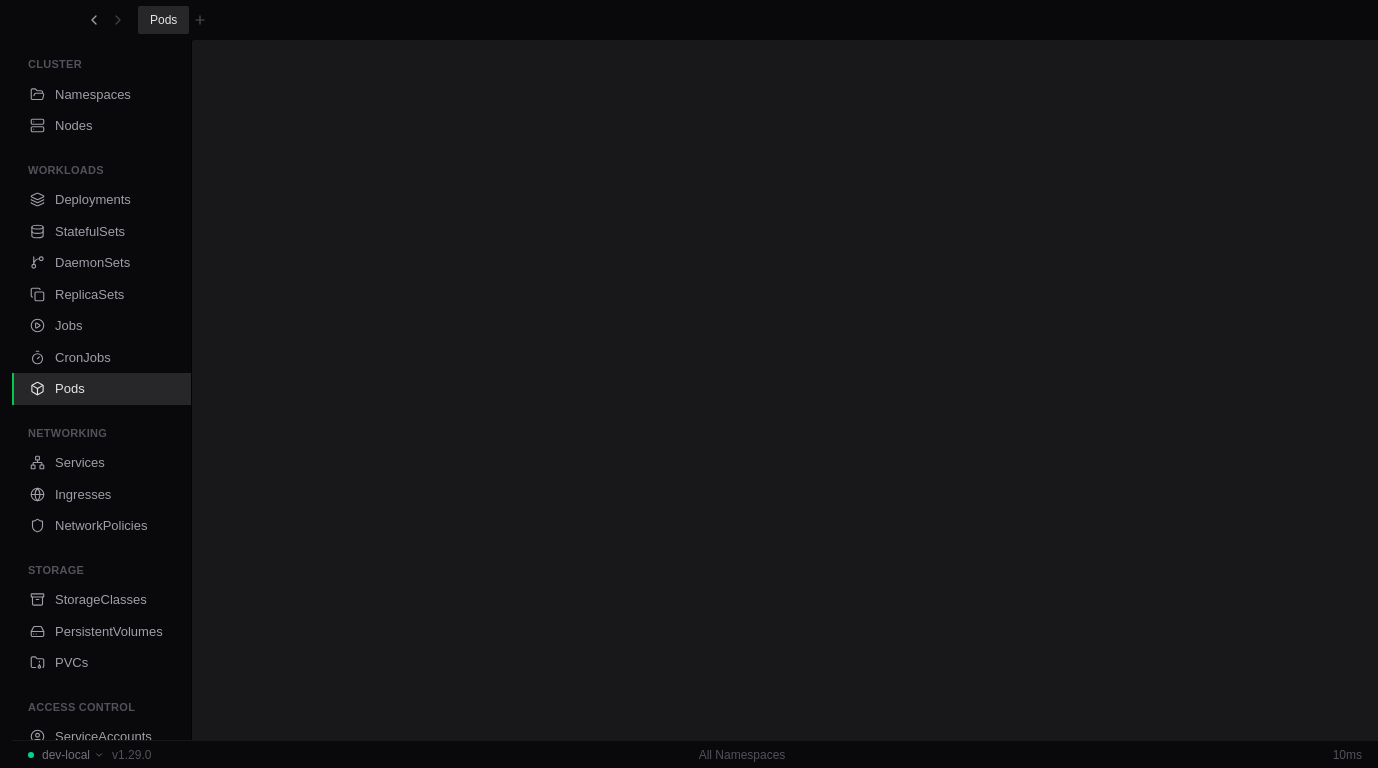
ServiceDetailView › shows service detail when clicking a service
Step 1. Click the button "Services" → (102, 463), box [12,447,191,478]
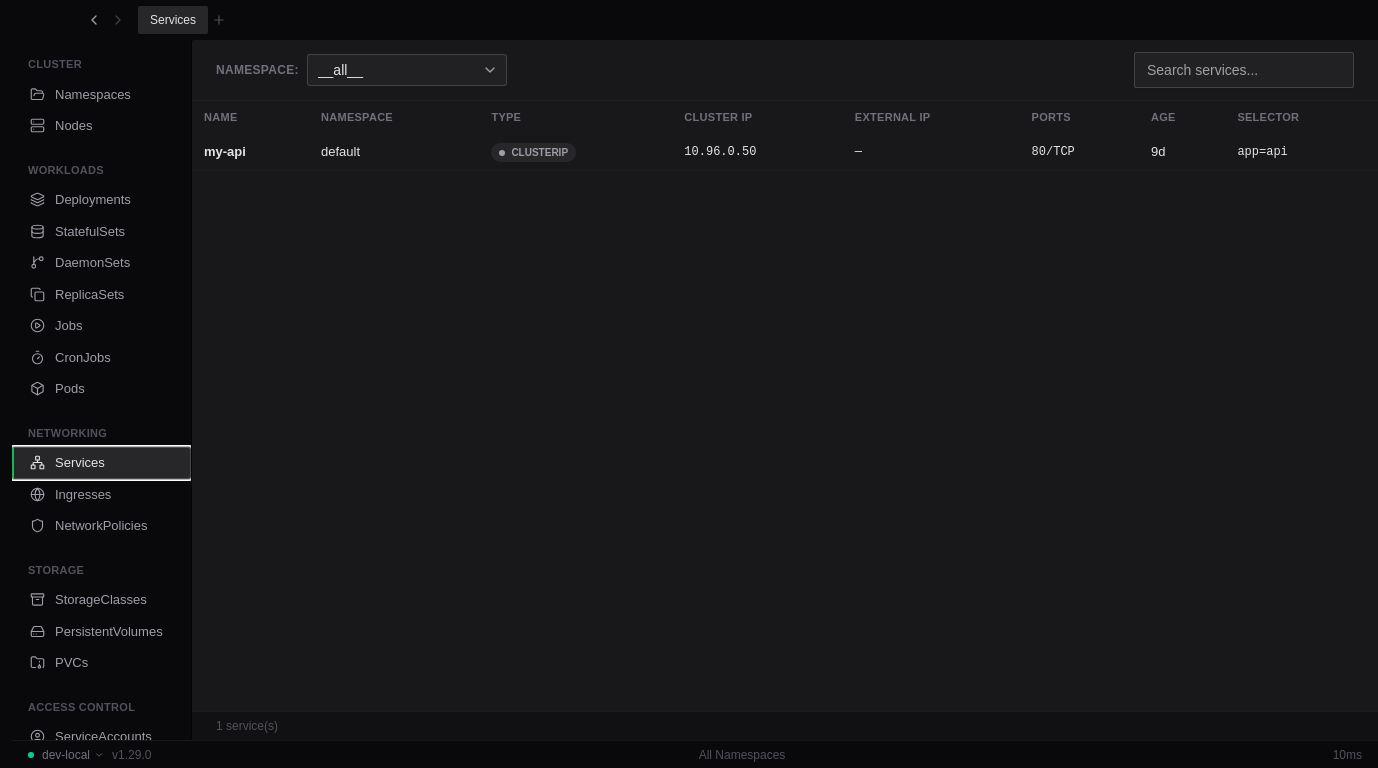
expect the text "my-api" is shown: met
Step 2. Click the text "my-api" → (250, 152), box [192,134,309,170]
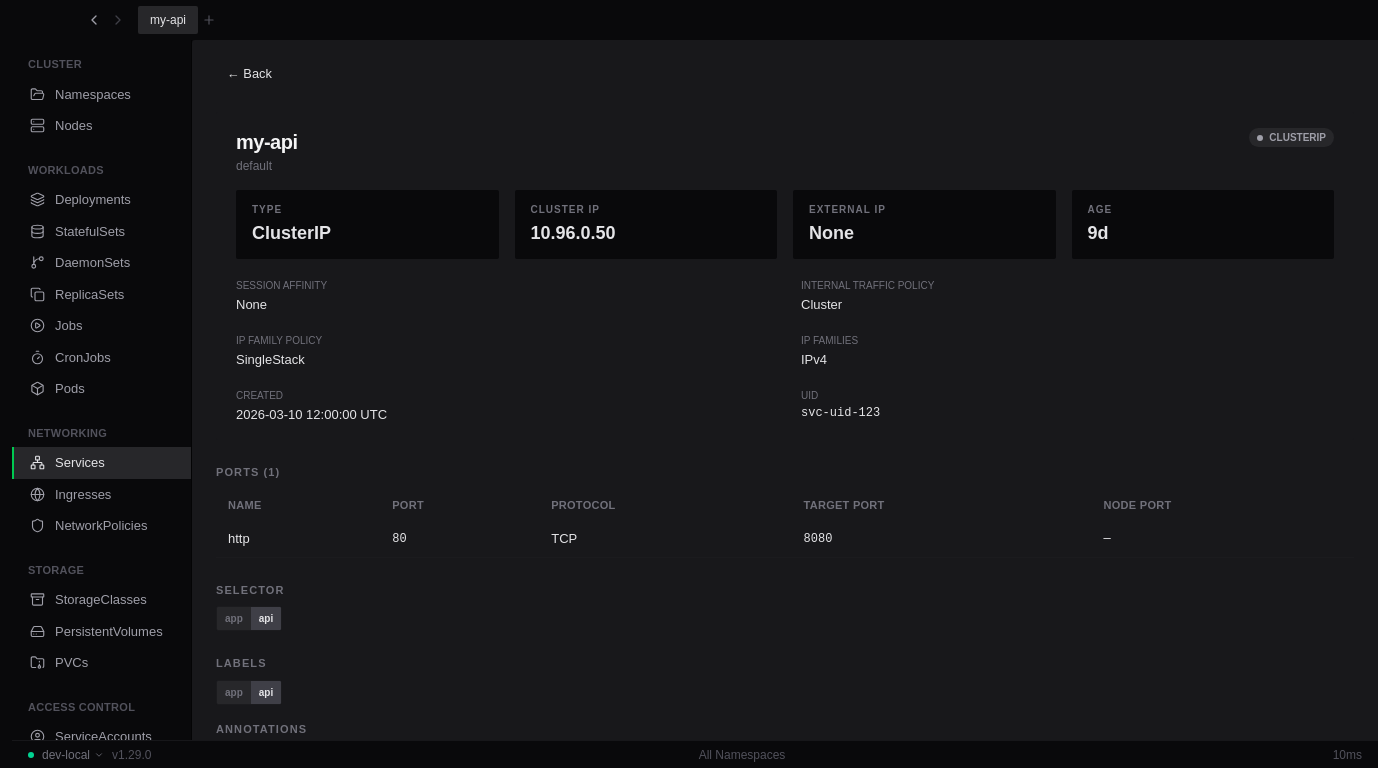
expect the text "Session Affinity" is shown: met, box [236,280,327,291]
expect the text "Cluster IP" is shown: met, box [530,204,600,215]
